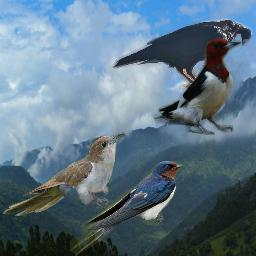Crow: (111, 18, 253, 91)
Cuckoo: (2, 132, 126, 216)
Swallow: (70, 161, 184, 256)
Woodpecker: (153, 38, 243, 135)
